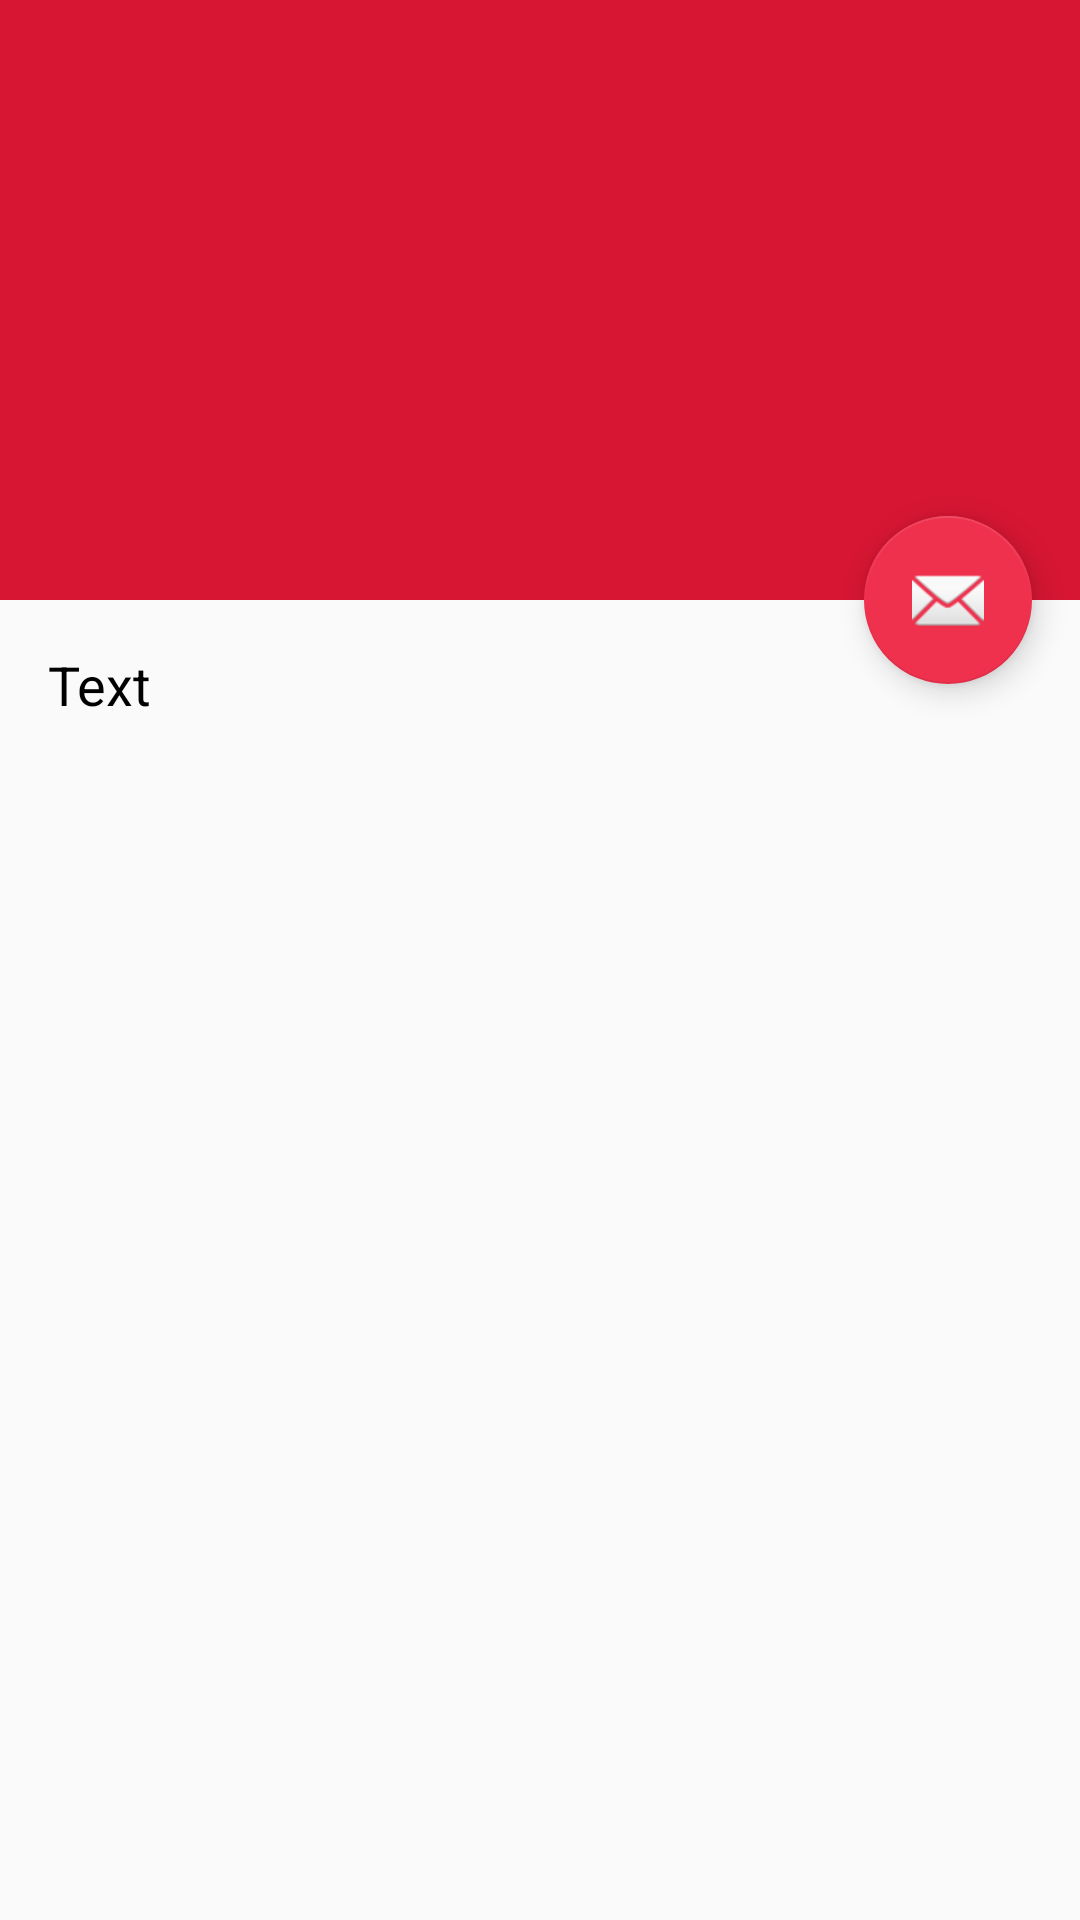

Icons on this 1080 × 1920 Android screen, each with the point to tap as (x=x, y=y):
email: (x=948, y=600)
